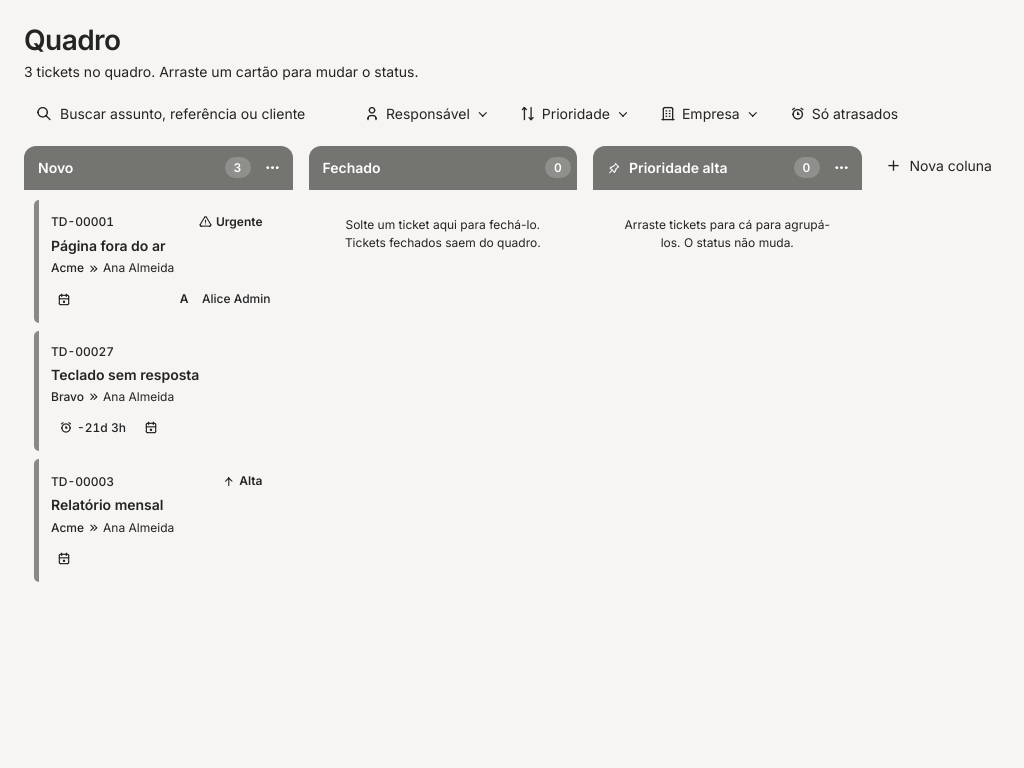
Test: PaginaKanban — limite de WIP › "Definir limite" no menu da coluna grava pelo endpoint da coluna
Click the button named "Opções da coluna Novo": (272, 168) [258,154,286,182]
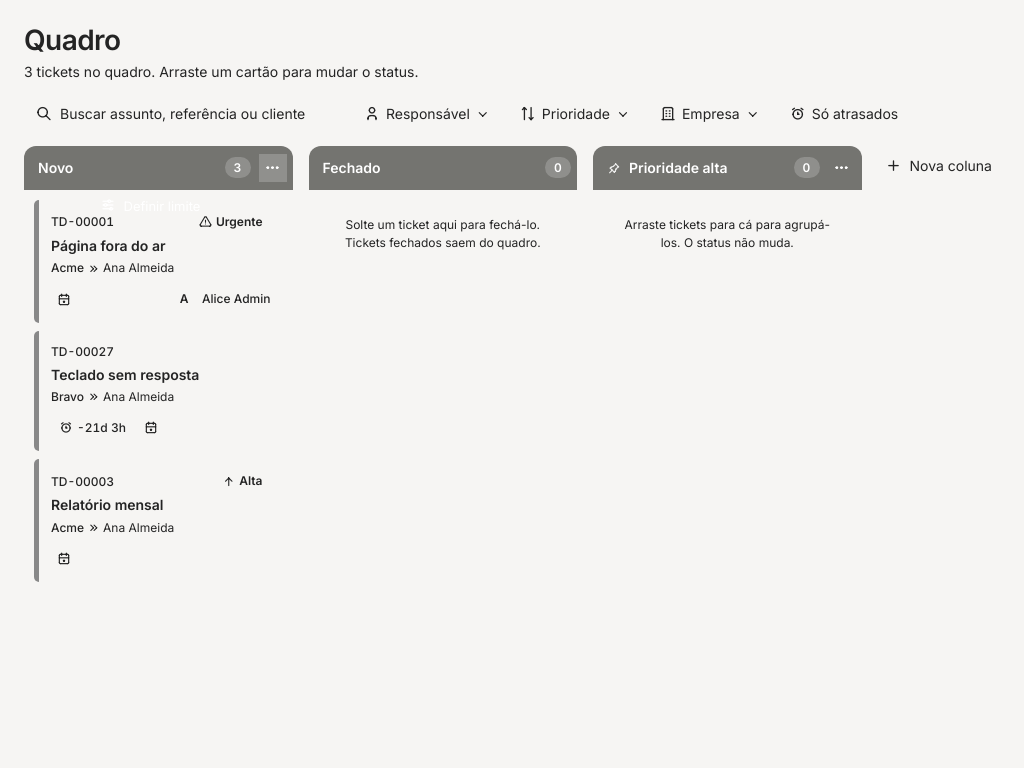
Click the menu item "Definir limite": (186, 206) [90,190,282,222]
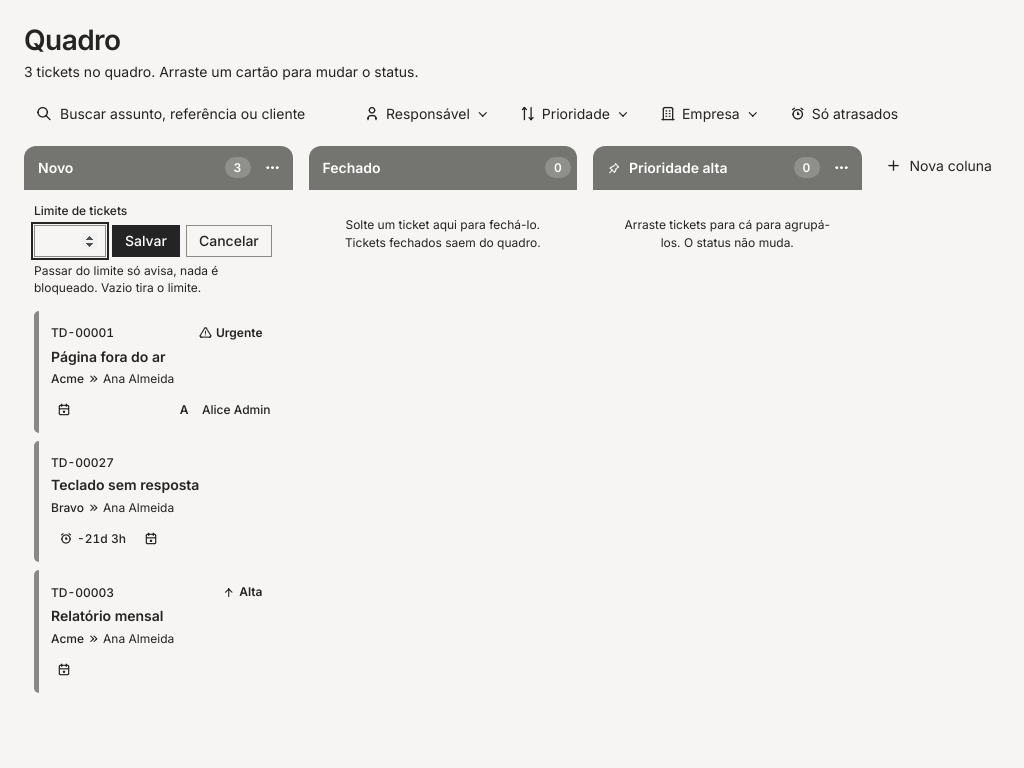
In the number field labelled "Limite de tickets": (70, 241) [34,225,106,257], type "5"
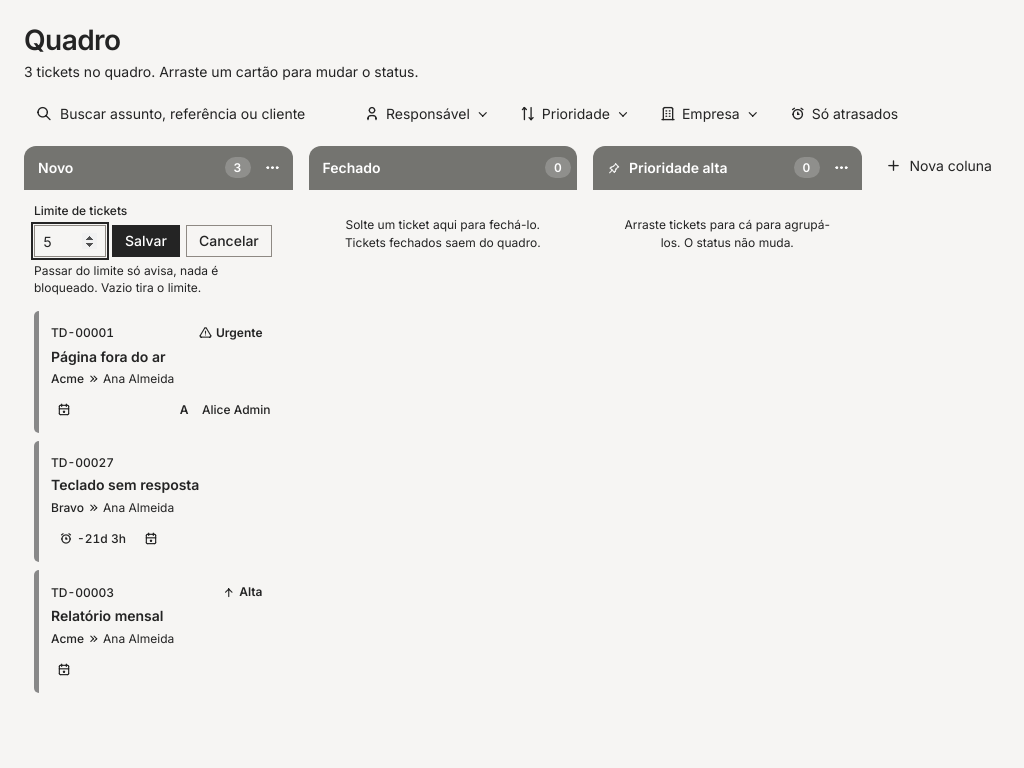
Click the button "Salvar": (146, 241) [112,225,180,257]
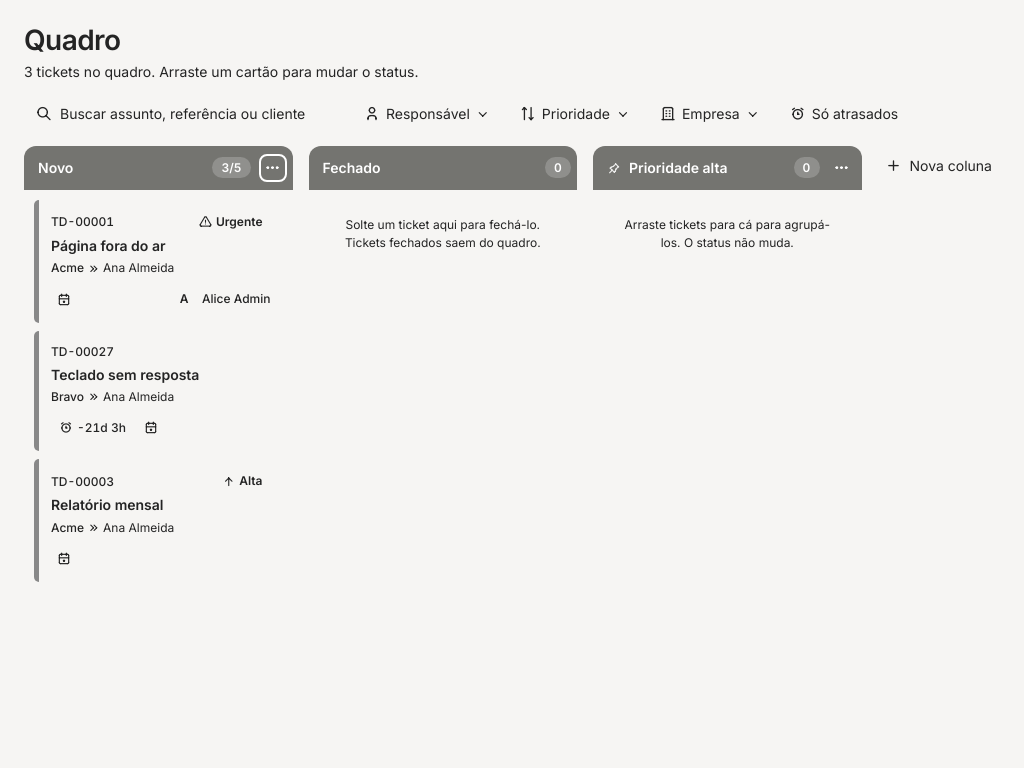
Now the text "3/5" is shown, box [221,160,242,175]
Now the label "Limite de tickets" is gone
